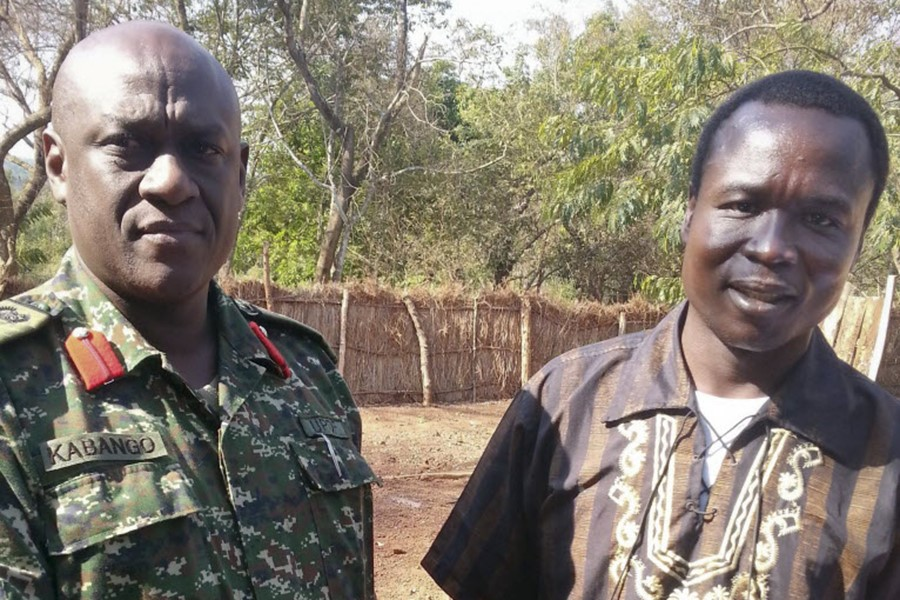face_no_mask: (683, 82, 871, 353), (66, 33, 250, 286)
